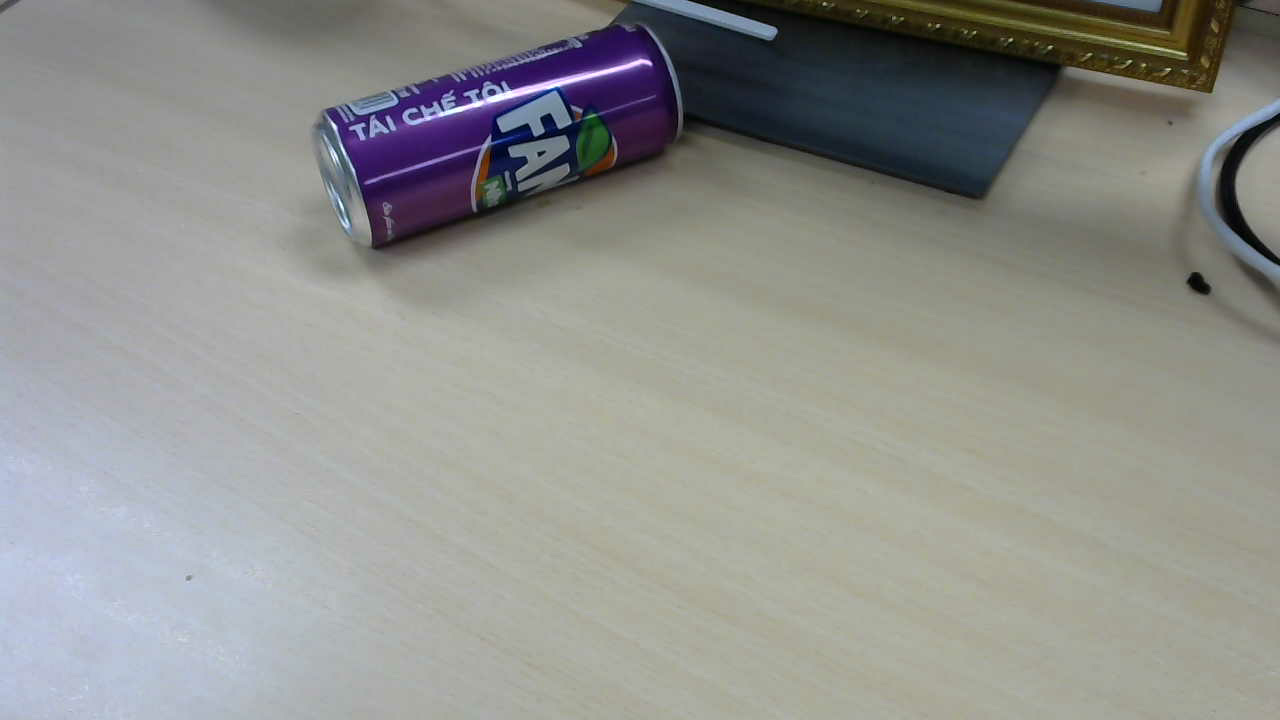Fanta: (320, 24, 689, 255)
